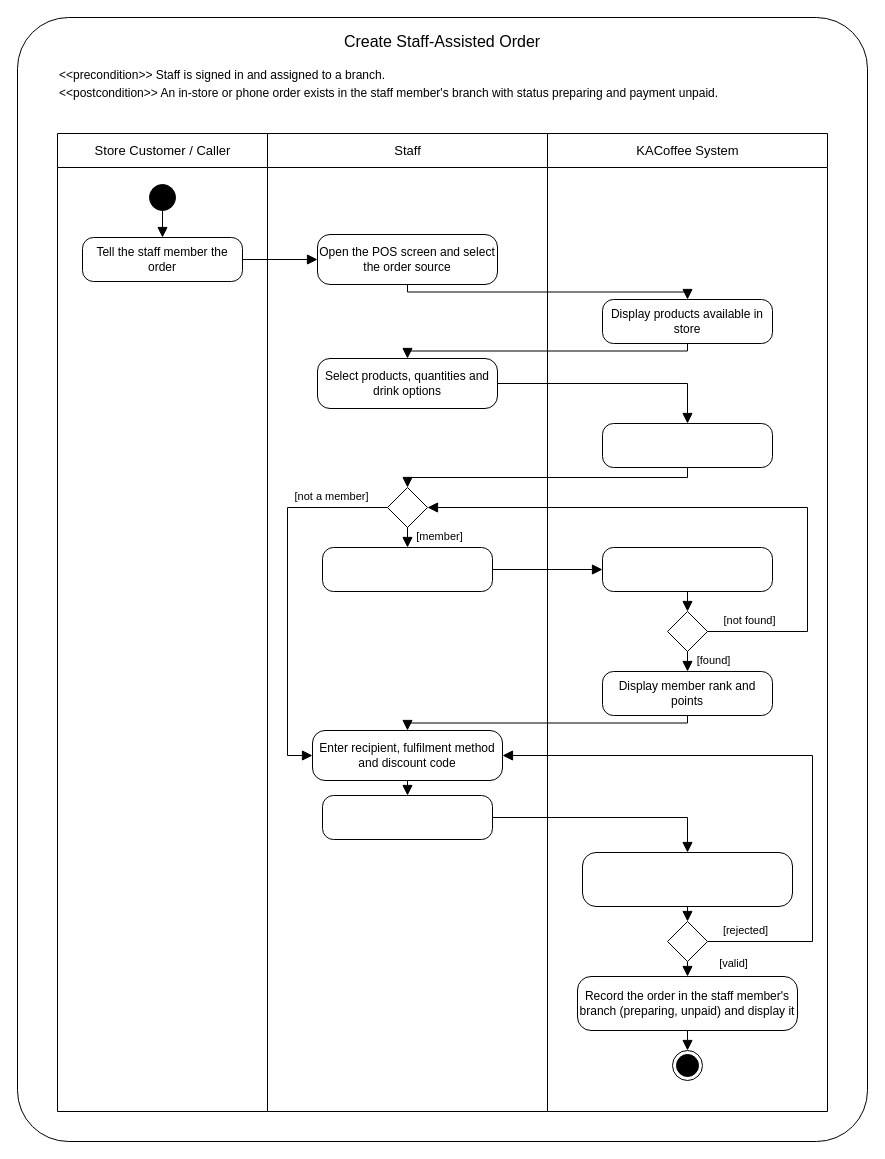
The diagram is 885 pixels wide and 1159 high, and some of its shapes have lost their labels. Here are the shapes that lost their labels. From the top down, the centre of each, then its label:
At point 687,445: "Update line items and subtotal".
At point 407,569: "Enter the member's phone number".
At point 687,569: "Look up the member (UC024)".
At point 407,817: "Confirm the order".
At point 687,879: "Validate products, delivery data, member and code (UC023); calculate total".
